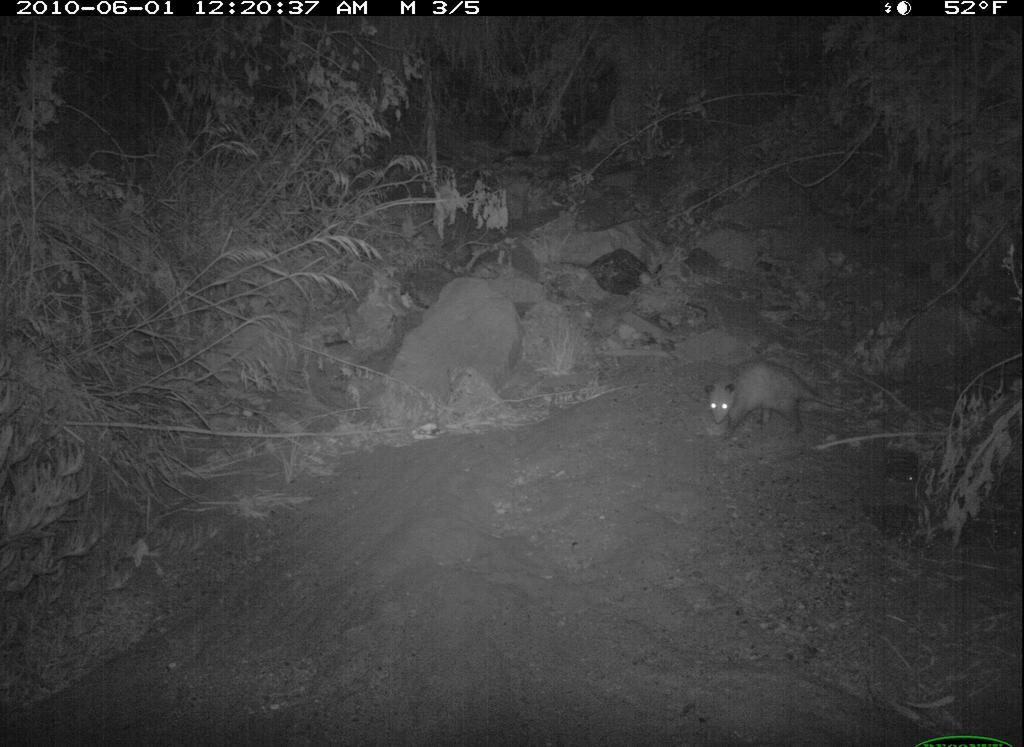opossum: (702, 358, 854, 443)
